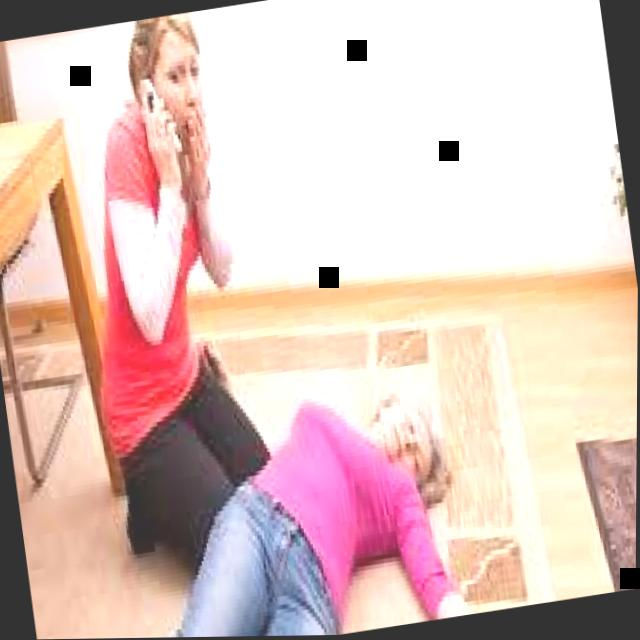Fall-Detected: (8, 354, 528, 640)
